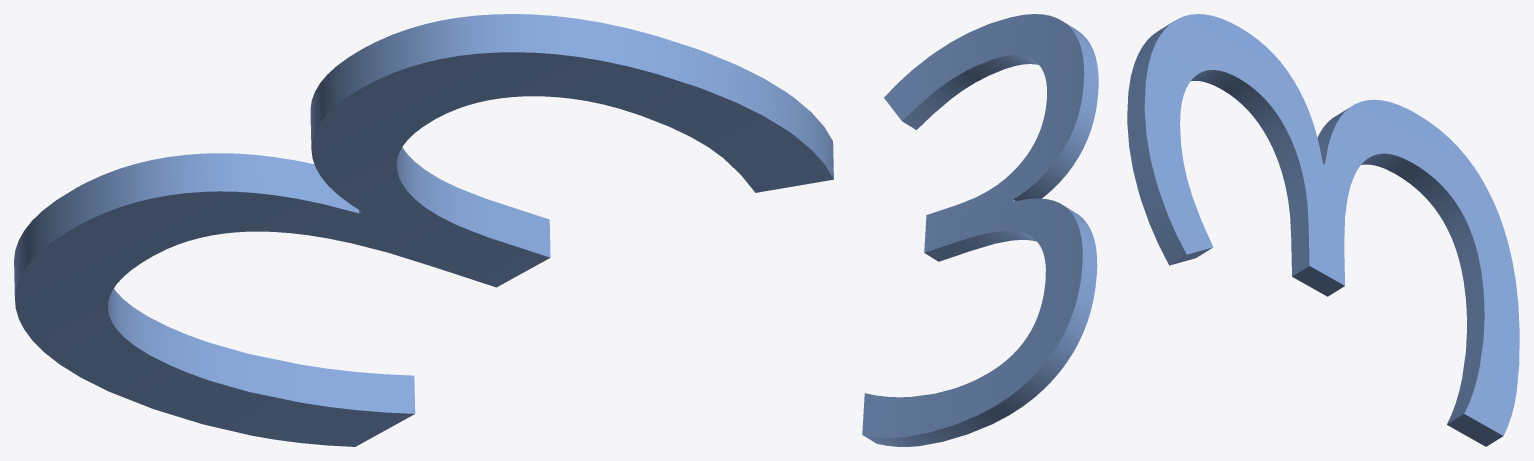
File: Number_3.gltf
The picture shows the model from 3 angles, left to right: view 1: azimuth 30°, elevation 25°; view 2: azimuth 150°, elevation 25°; view 3: azimuth 270°, elevation 25°; orthographic projection. The views are drawn at different scales.
Visible parts, largest first — view 1: Sub_5_Cell_2_2_Number_3; view 2: Sub_5_Cell_2_2_Number_3; view 3: Sub_5_Cell_2_2_Number_3.
Boxes of the visible parts, x1,y1,x2,y2 form: Sub_5_Cell_2_2_Number_3: [14, 14, 833, 446]; Sub_5_Cell_2_2_Number_3: [862, 14, 1098, 446]; Sub_5_Cell_2_2_Number_3: [1127, 14, 1519, 446].
Bounding box in the file's own units: 0.0208 × 0.0214 × 0.0194.
